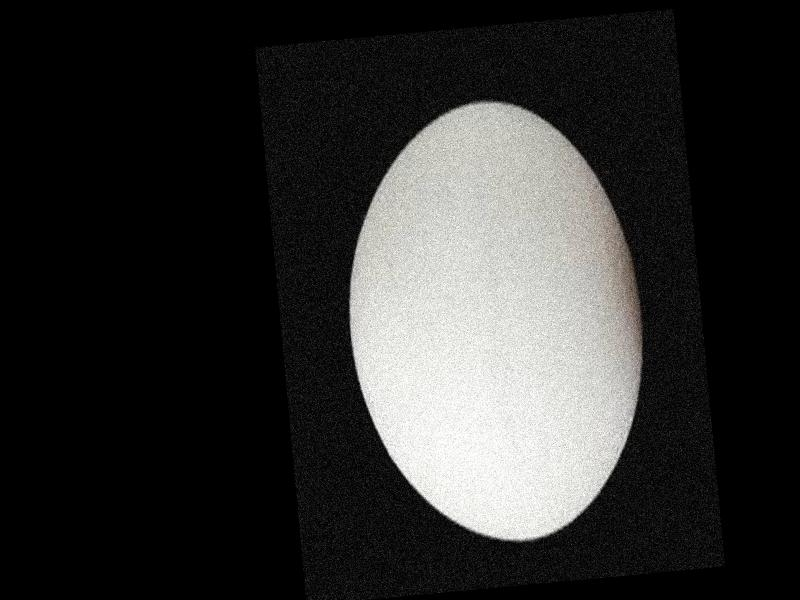Eggs: (332, 90, 662, 556)
